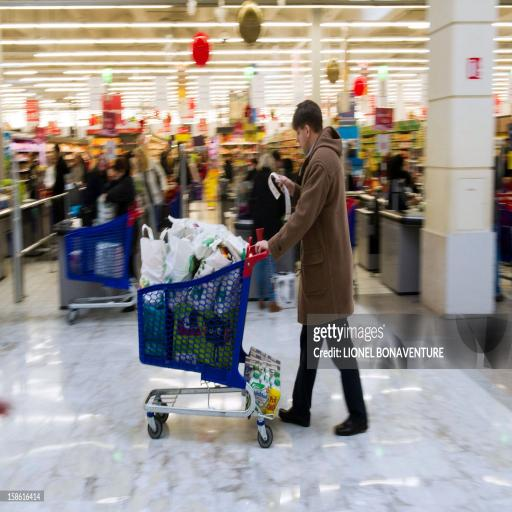shopping_cart: (137, 242, 273, 450), (62, 204, 146, 326)
